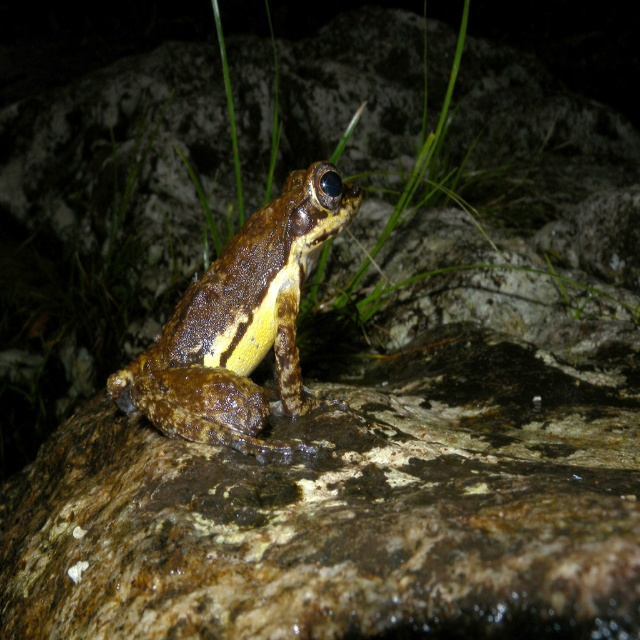Frog: (104, 159, 362, 459)
